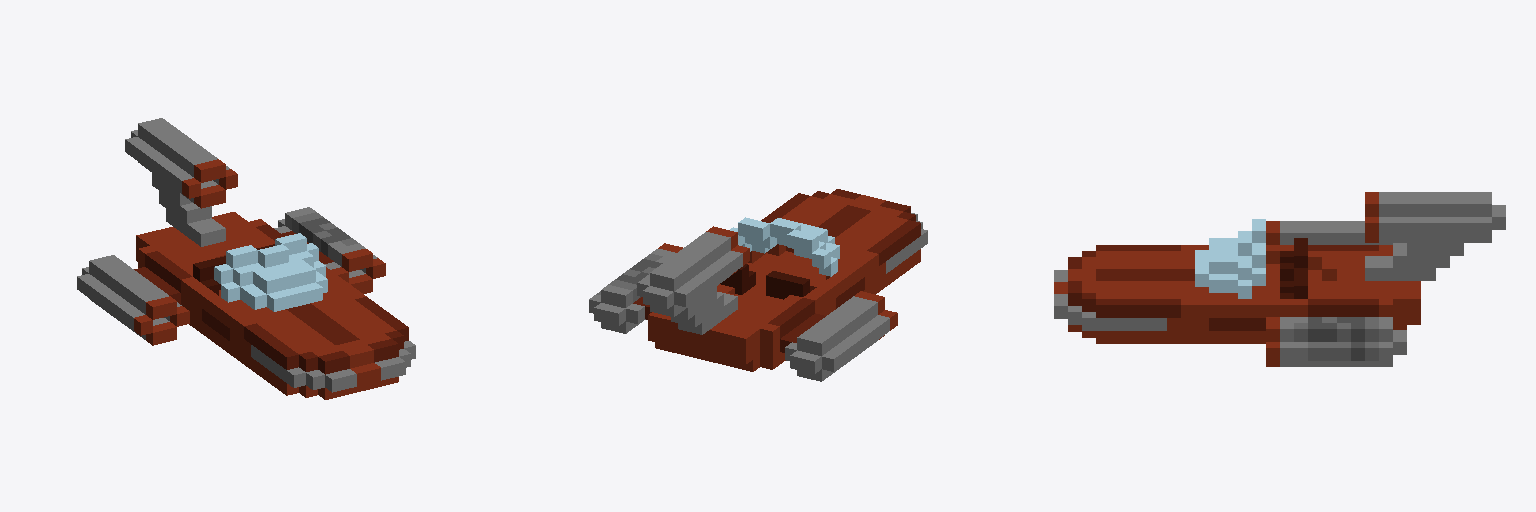
3 renders of one model, left to right at view 1: azimuth 30°, elevation 25°; view 2: azimuth 150°, elevation 25°; view 3: azimuth 270°, elevation 25°, orthographic.
Parts seen in each view (by area): view 1: object 1; view 2: object 1; view 3: object 1.
Part boxes in pixels (left/top/right/bottom): object 1: left=77, top=118, right=415, bottom=399; object 1: left=589, top=189, right=927, bottom=381; object 1: left=1054, top=192, right=1505, bottom=366.
Size of the model in its own units: 2 by 0.9 by 3.2.
Materials: 1 (1 with a texture image).